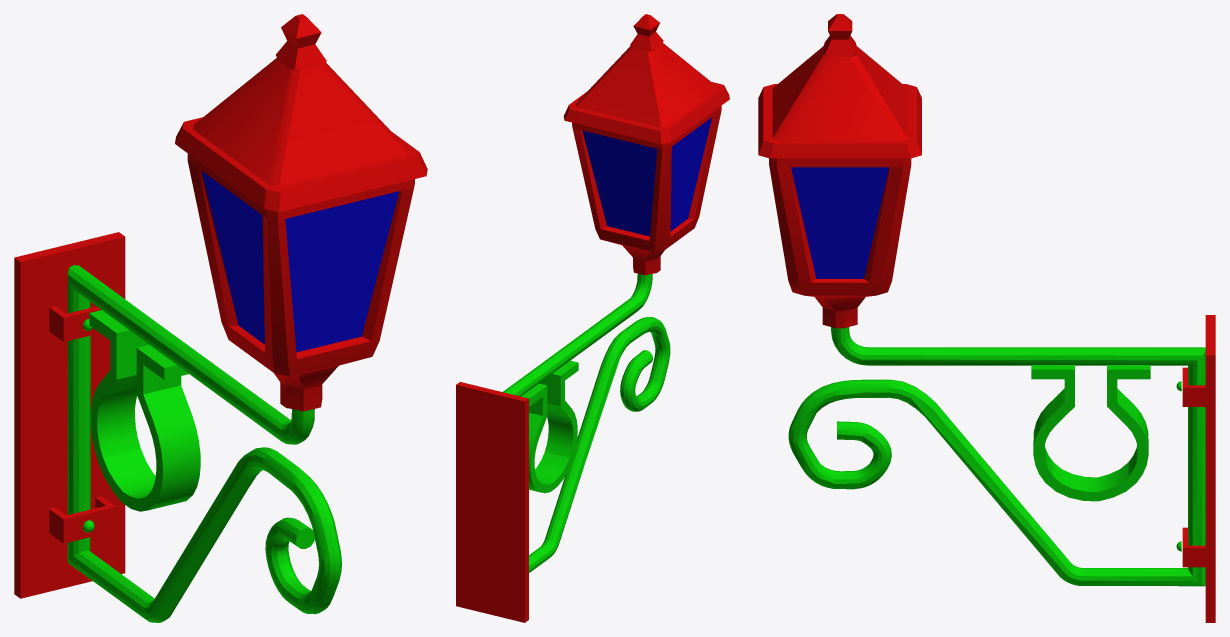
File: WallLantern001.fbx
3 views of the same model, side by side, from view 1: azimuth 30°, elevation 25°; view 2: azimuth 150°, elevation 25°; view 3: azimuth 270°, elevation 25° (orthographic). The views are drawn at different scales.
Visible parts, largest first — view 1: Box002; view 2: Box002; view 3: Box002.
Part boxes in pixels (bbox=[...]): Box002: bbox=[14, 14, 427, 622]; Box002: bbox=[456, 14, 729, 622]; Box002: bbox=[758, 14, 1215, 622].
Bounding box in the file's own units: 43.88 × 189 × 134.
